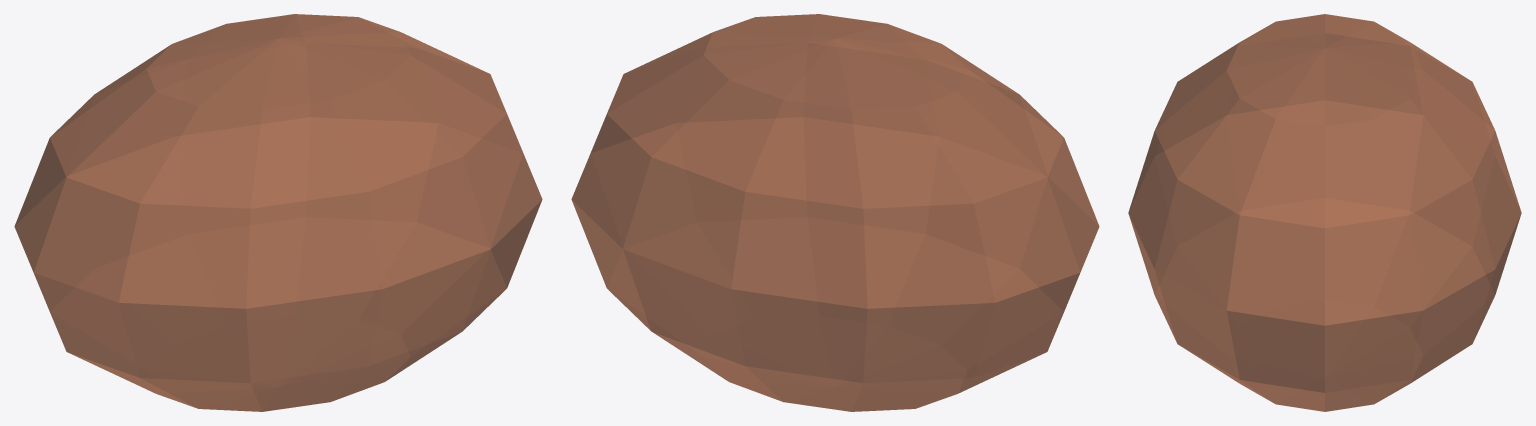
File: EatenWideBack.fbx
3 views of the same model, side by side, from view 1: azimuth 30°, elevation 25°; view 2: azimuth 150°, elevation 25°; view 3: azimuth 270°, elevation 25° (orthographic). The views are drawn at different scales.
Parts seen in each view (by area): view 1: pSphere4; view 2: pSphere4; view 3: pSphere4.
Boxes of the visible parts, left/top/right/bottom form: pSphere4: left=14, top=14, right=542, bottom=411; pSphere4: left=571, top=14, right=1099, bottom=411; pSphere4: left=1128, top=14, right=1521, bottom=411.
Bounding box in the file's own units: 10.56 × 7.19 × 7.78.
